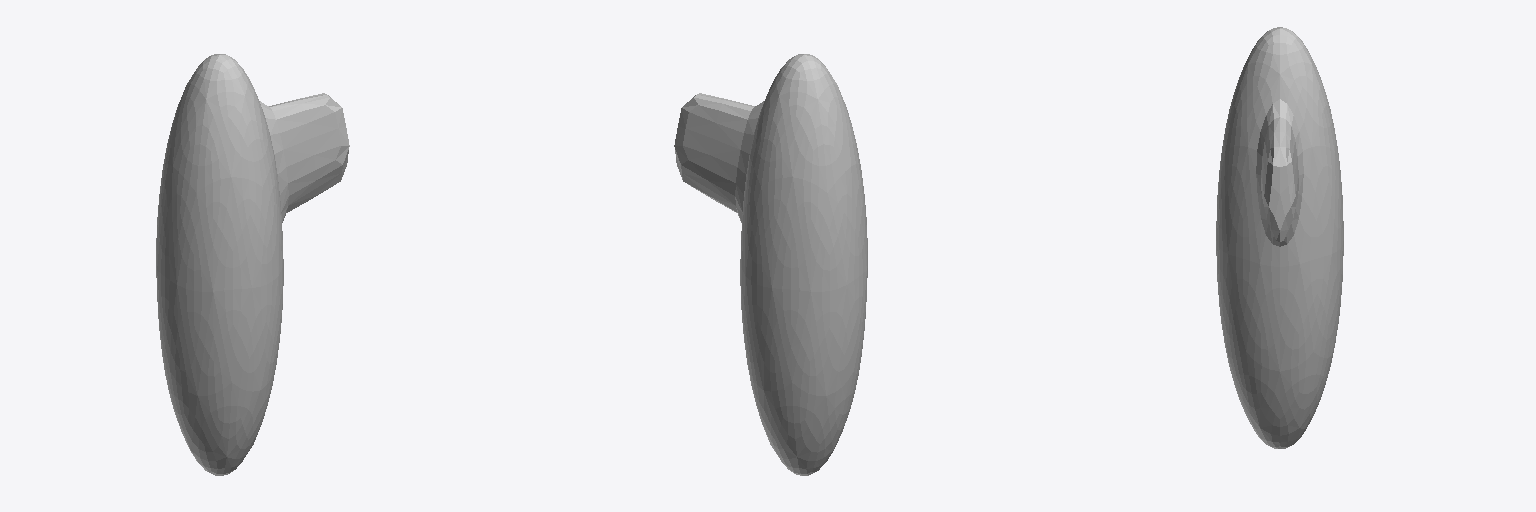
The model's file is ogive.obj.
3 views of the same model, side by side, from view 1: azimuth 30°, elevation 25°; view 2: azimuth 150°, elevation 25°; view 3: azimuth 270°, elevation 25° (orthographic).
Visible parts, largest first — view 1: Icosphere; view 2: Icosphere; view 3: Icosphere.
Boxes of the visible parts, x1,y1,x2,y2 form: Icosphere: [156, 54, 349, 475]; Icosphere: [674, 54, 867, 475]; Icosphere: [1216, 27, 1343, 448].
Size of the model in its own units: 3.07 by 6.75 by 1.87.